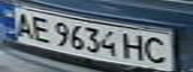3: (81, 25, 103, 55)
4: (100, 28, 121, 58)
6: (66, 22, 87, 52)
9: (48, 19, 72, 48)
A: (9, 9, 39, 39)
C: (139, 34, 172, 65)
E: (27, 14, 54, 44)
H: (121, 32, 148, 62)
